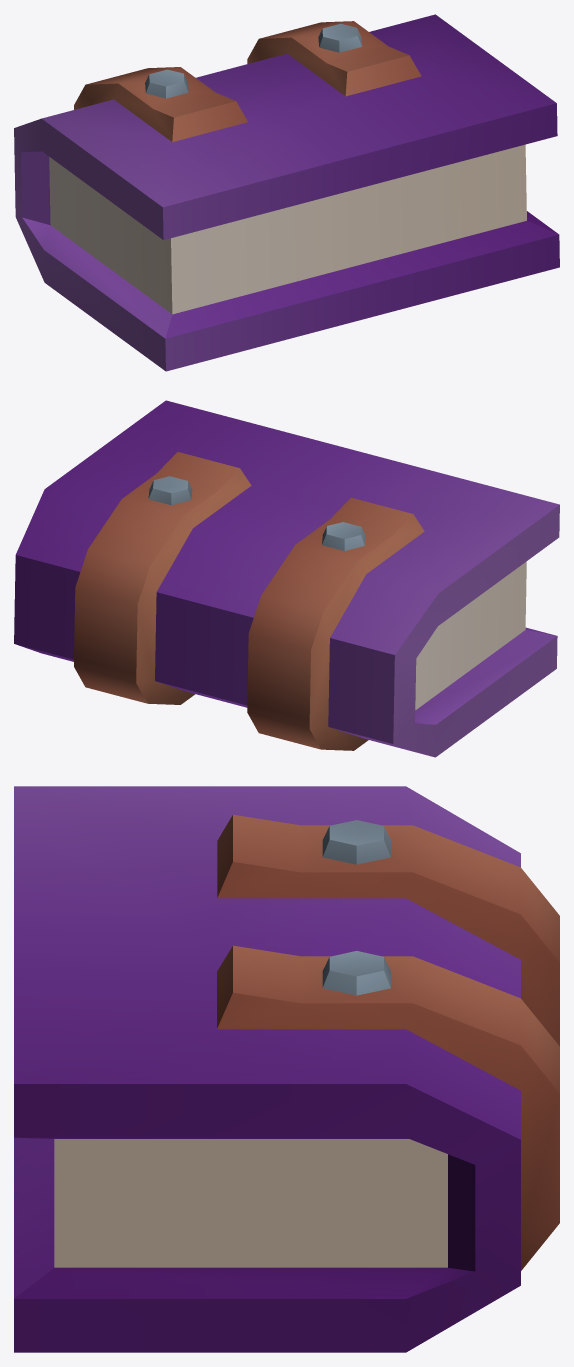
File: Book_.fbx
The picture shows the model from 3 angles, top to bottom: view 1: azimuth 30°, elevation 25°; view 2: azimuth 150°, elevation 25°; view 3: azimuth 270°, elevation 25°; orthographic projection. The views are drawn at different scales.
Parts seen in each view (by area): view 1: Book; view 2: Book; view 3: Book.
Part boxes in pixels (x1,y1,x2,y2): Book: (14, 14, 559, 371); Book: (14, 400, 559, 757); Book: (14, 786, 559, 1352).
Size of the model in its own units: 5794 by 2989 by 4271.
